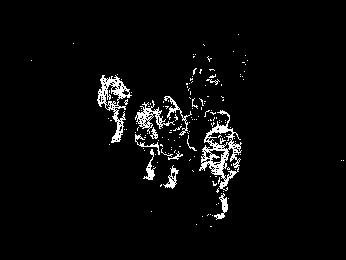person: (201, 109, 243, 221), (159, 94, 185, 189), (98, 72, 129, 145), (135, 98, 160, 183)
